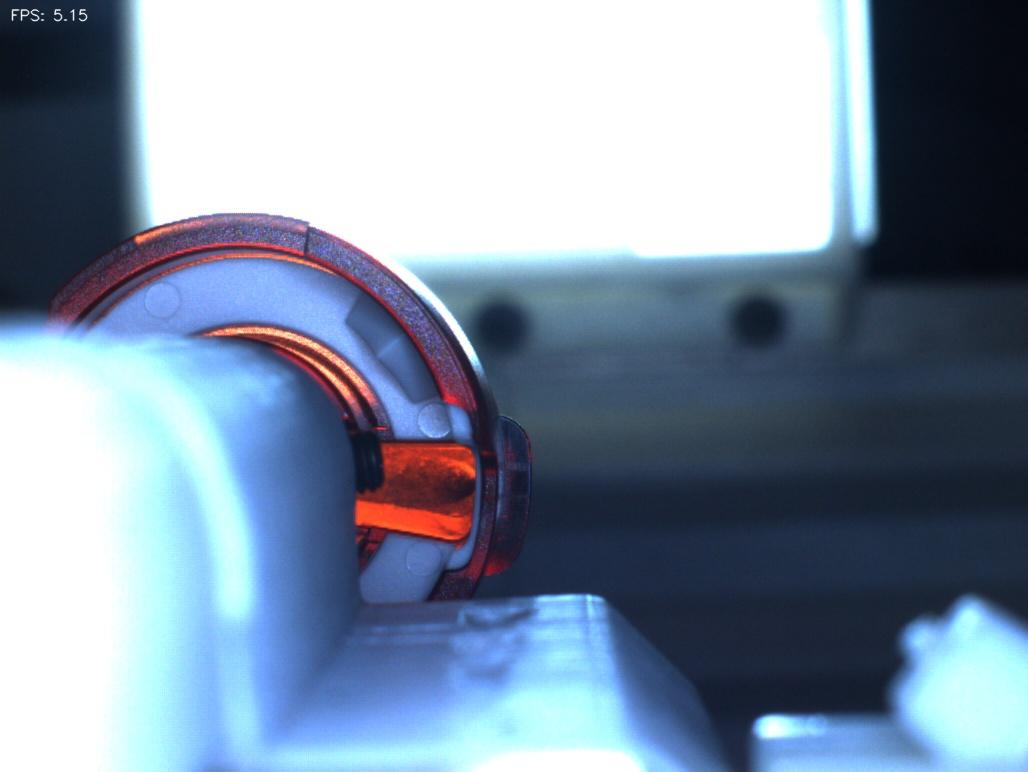Retassure: (384, 448, 484, 530)
